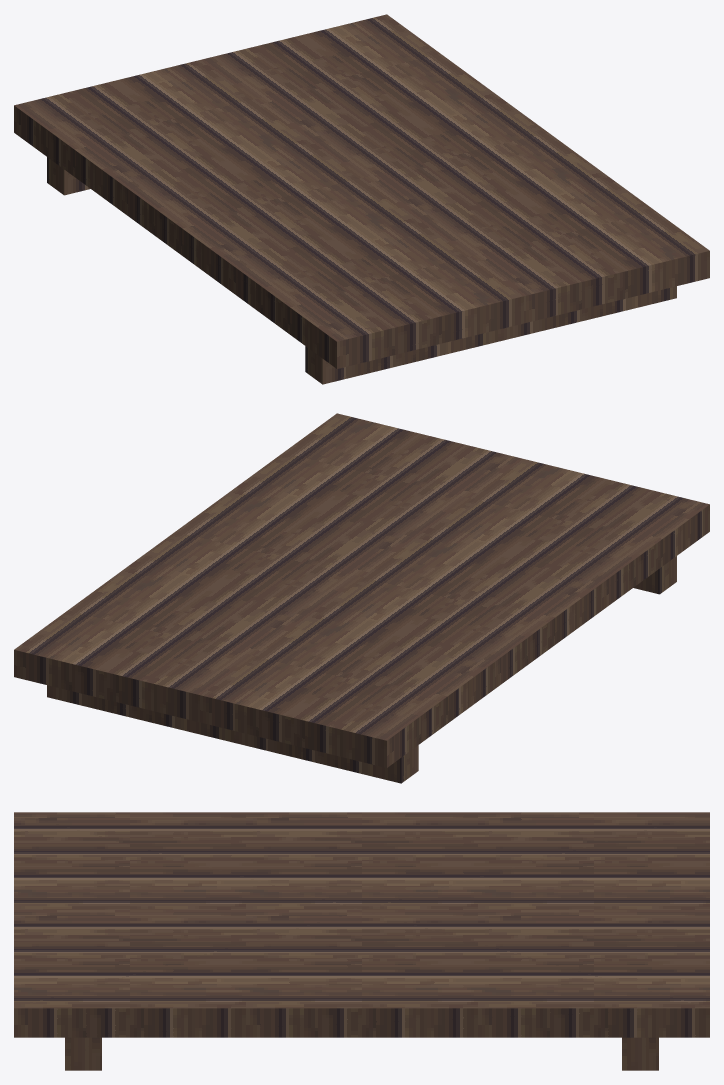
Rendered from dock_deck.glb.
3 views of the same model, one above another, from view 1: azimuth 30°, elevation 25°; view 2: azimuth 150°, elevation 25°; view 3: azimuth 270°, elevation 25° (orthographic). The views are drawn at different scales.
Visible parts, largest first — view 1: dock_deck; view 2: dock_deck; view 3: dock_deck.
Boxes of the visible parts, bbox=[...] form: dock_deck: bbox=[14, 14, 709, 384]; dock_deck: bbox=[14, 413, 709, 783]; dock_deck: bbox=[14, 812, 709, 1070].
Bounding box in the file's own units: 2 × 0.32 × 3.
1 material, 1 textured.
